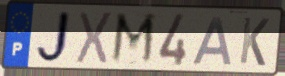4: (157, 11, 190, 69)
A: (190, 15, 234, 67)
J: (34, 8, 73, 66)
K: (237, 15, 271, 68)
M: (108, 11, 158, 68)
X: (74, 10, 115, 67)
